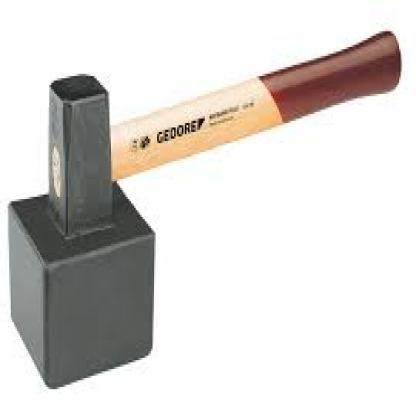Hammer: (6, 29, 402, 390)
